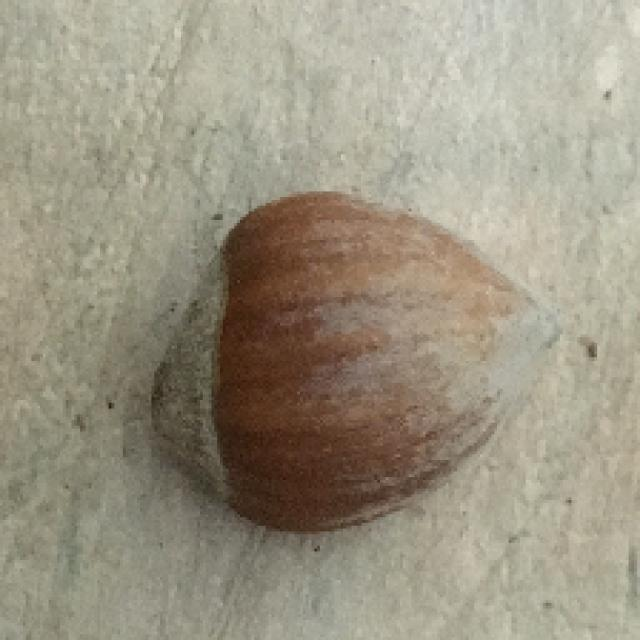qualityHazelnut: (152, 203, 558, 536)
